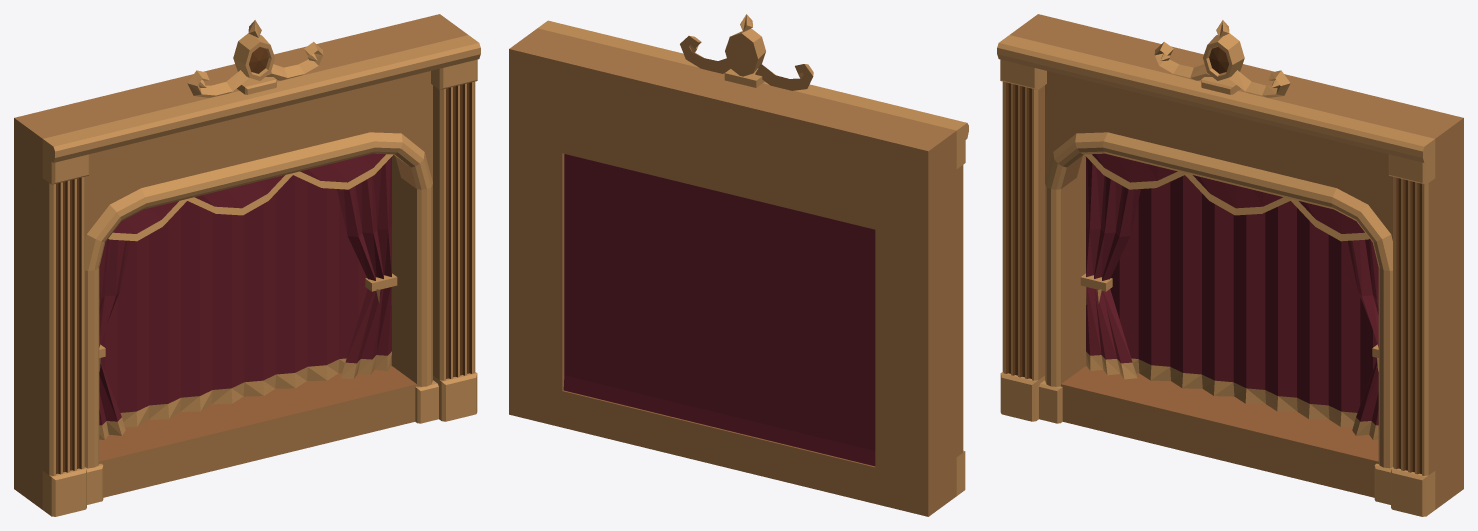
The model's file is opera-proscenium-arch-19e969.glb.
3 renders of one model, left to right at view 1: azimuth 30°, elevation 25°; view 2: azimuth 150°, elevation 25°; view 3: azimuth 330°, elevation 25°, orthographic.
Visible parts, largest first — view 1: proscenium-gilt, proscenium-matte; view 2: proscenium-gilt, proscenium-matte; view 3: proscenium-gilt, proscenium-matte.
Boxes of the visible parts, box(x1,y1,x2,y2) form: proscenium-gilt: box(14, 14, 480, 516); proscenium-matte: box(99, 153, 416, 461); proscenium-gilt: box(509, 14, 968, 516); proscenium-matte: box(563, 154, 875, 467); proscenium-gilt: box(997, 14, 1463, 516); proscenium-matte: box(1061, 153, 1378, 461).
Bounding box in the file's own units: 9.6 × 9.44 × 1.6.
